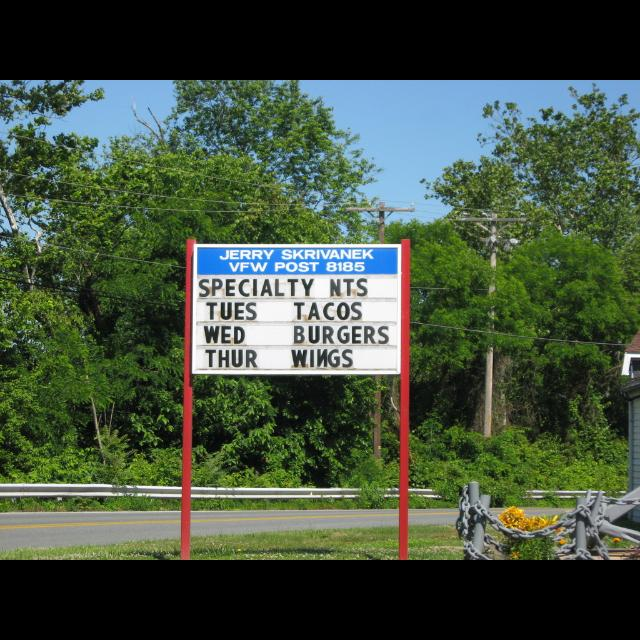Flower: (498, 504, 568, 550)
